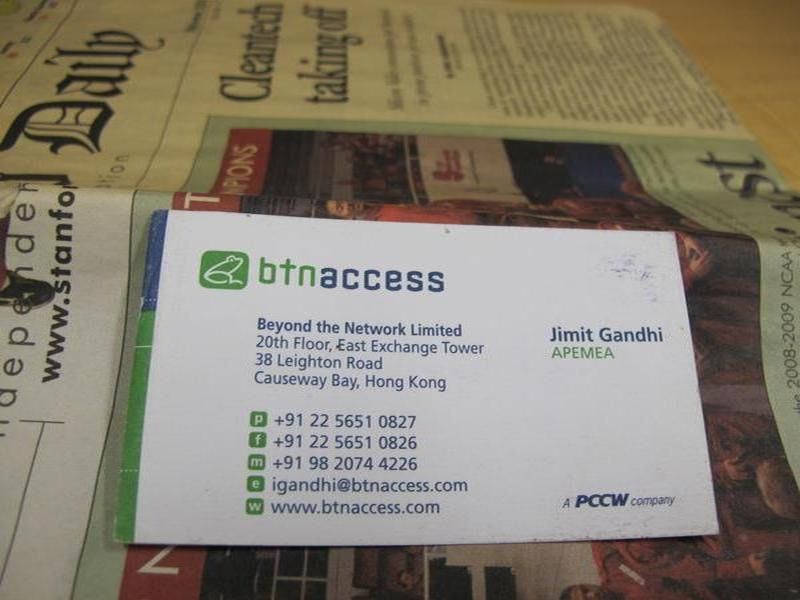card: (113, 209, 728, 543)
